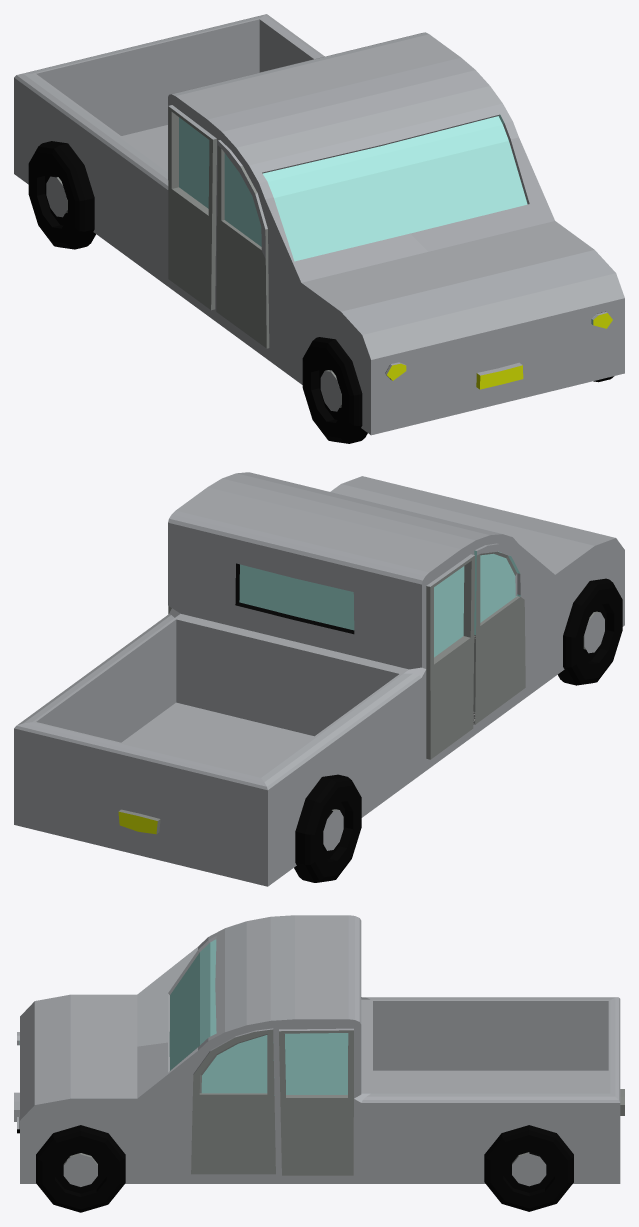
Rendered from derechito.fbx.
The picture shows the model from 3 angles, top to bottom: view 1: azimuth 30°, elevation 25°; view 2: azimuth 150°, elevation 25°; view 3: azimuth 270°, elevation 25°; orthographic projection. The views are drawn at different scales.
Parts seen in each view (by area): view 1: Carroceria, Rueda.trasera.derecha, Rueda.Delantera.derecha; view 2: Carroceria, Rueda.trasera.derecha, Rueda.Delantera.derecha; view 3: Carroceria, Rueda.Delantera.Izquierda, Rueda.Trasera.izquierda.
Part boxes in pixels (x1=…): Carroceria: x1=14, y1=14, x2=624, y2=435; Rueda.trasera.derecha: x1=28, y1=141, x2=95, y2=249; Rueda.Delantera.derecha: x1=302, y1=337, x2=367, y2=443; Carroceria: x1=14, y1=472, x2=624, y2=886; Rueda.trasera.derecha: x1=294, y1=774, x2=361, y2=882; Rueda.Delantera.derecha: x1=558, y1=578, x2=622, y2=685; Carroceria: x1=14, y1=915, x2=624, y2=1183; Rueda.Delantera.Izquierda: x1=36, y1=1125, x2=125, y2=1212; Rueda.Trasera.izquierda: x1=484, y1=1125, x2=573, y2=1211.
Bounding box in the file's own units: 581 × 448 × 1298.
Materials: 3 (3 with a texture image).
